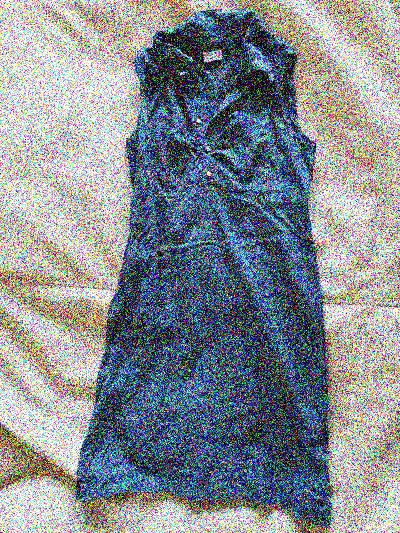Dress: (37, 19, 340, 529)
